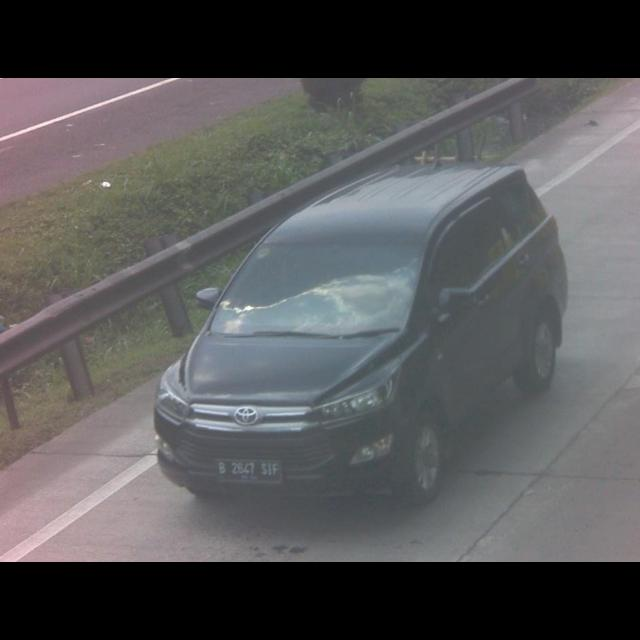plate: (213, 460, 283, 484)
